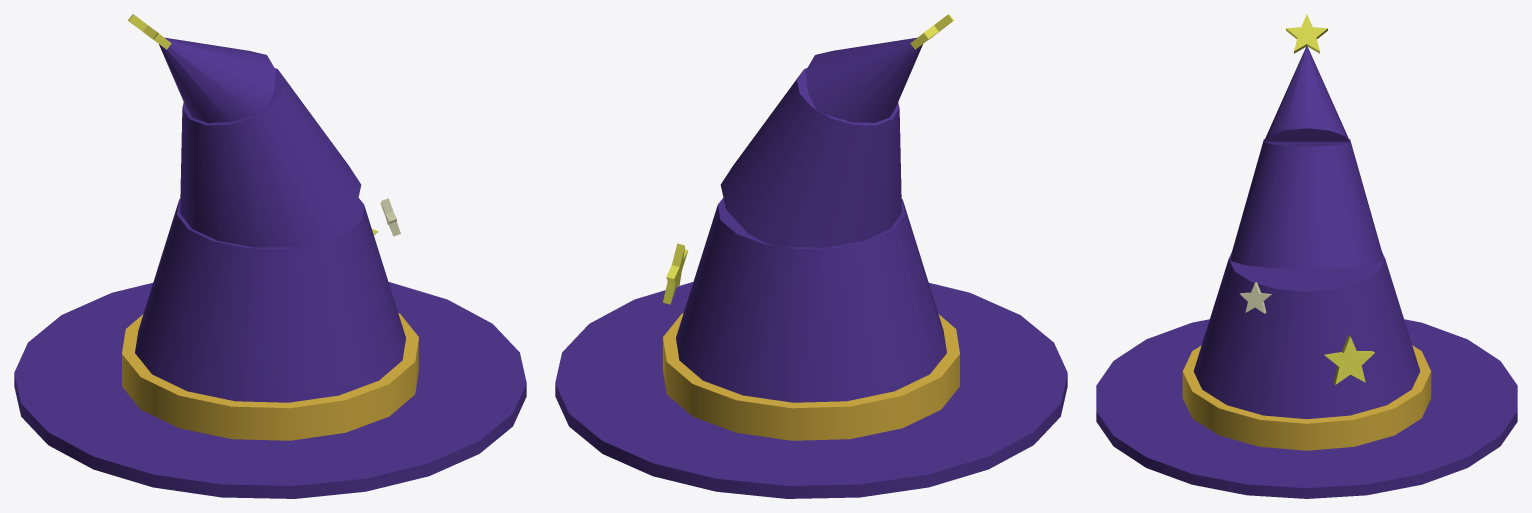
File: hat_wizard.glb
3 renders of one model, left to right at view 1: azimuth 30°, elevation 25°; view 2: azimuth 150°, elevation 25°; view 3: azimuth 270°, elevation 25°, orthographic. The views are drawn at different scales.
Parts seen in each view (by area): view 1: Hat; view 2: Hat; view 3: Hat.
Boxes of the visible parts, x1,y1,x2,y2 form: Hat: (14, 14, 526, 498); Hat: (555, 14, 1067, 498); Hat: (1096, 14, 1517, 498).
Bounding box in the file's own units: 0.75 × 0.661 × 0.7424.
